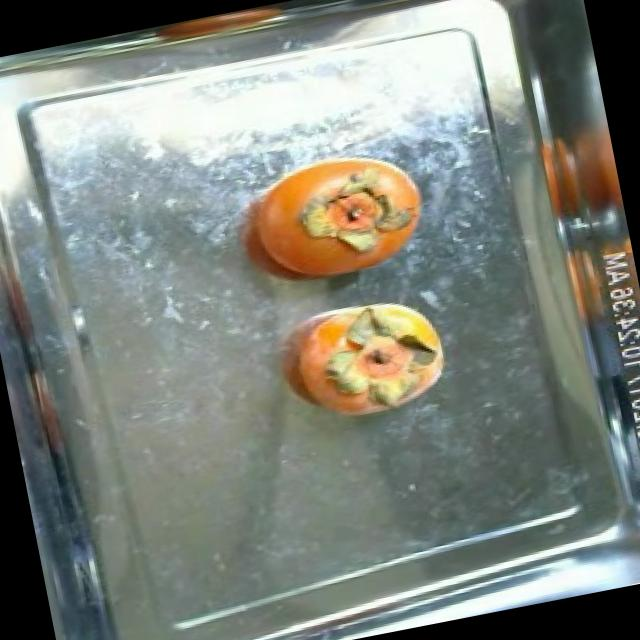Fruit: (259, 284, 466, 443), (268, 137, 444, 277)
